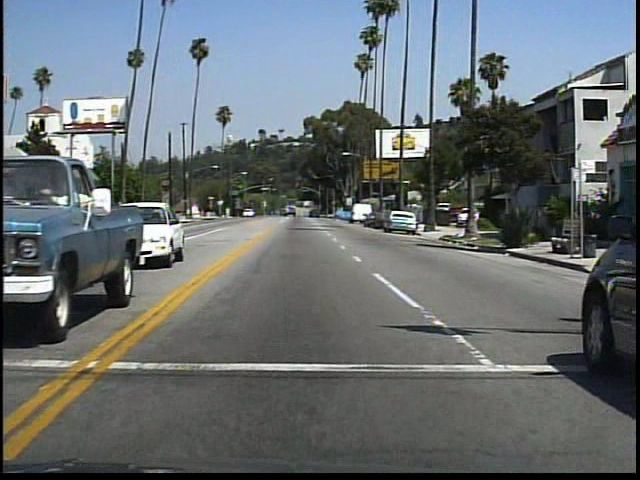person: (511, 198, 535, 250)
